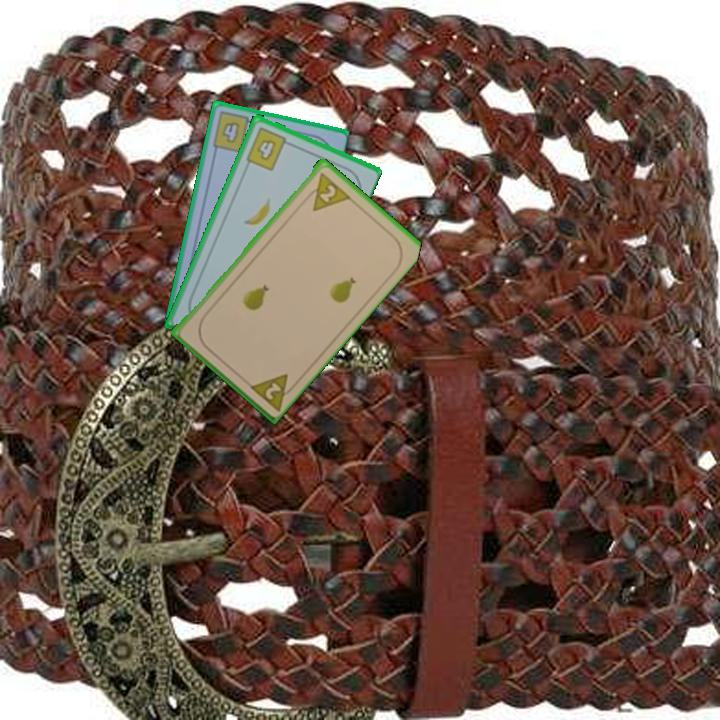2p: (245, 369, 300, 413), (300, 168, 352, 214)
4b: (242, 123, 294, 173), (209, 108, 258, 155)
